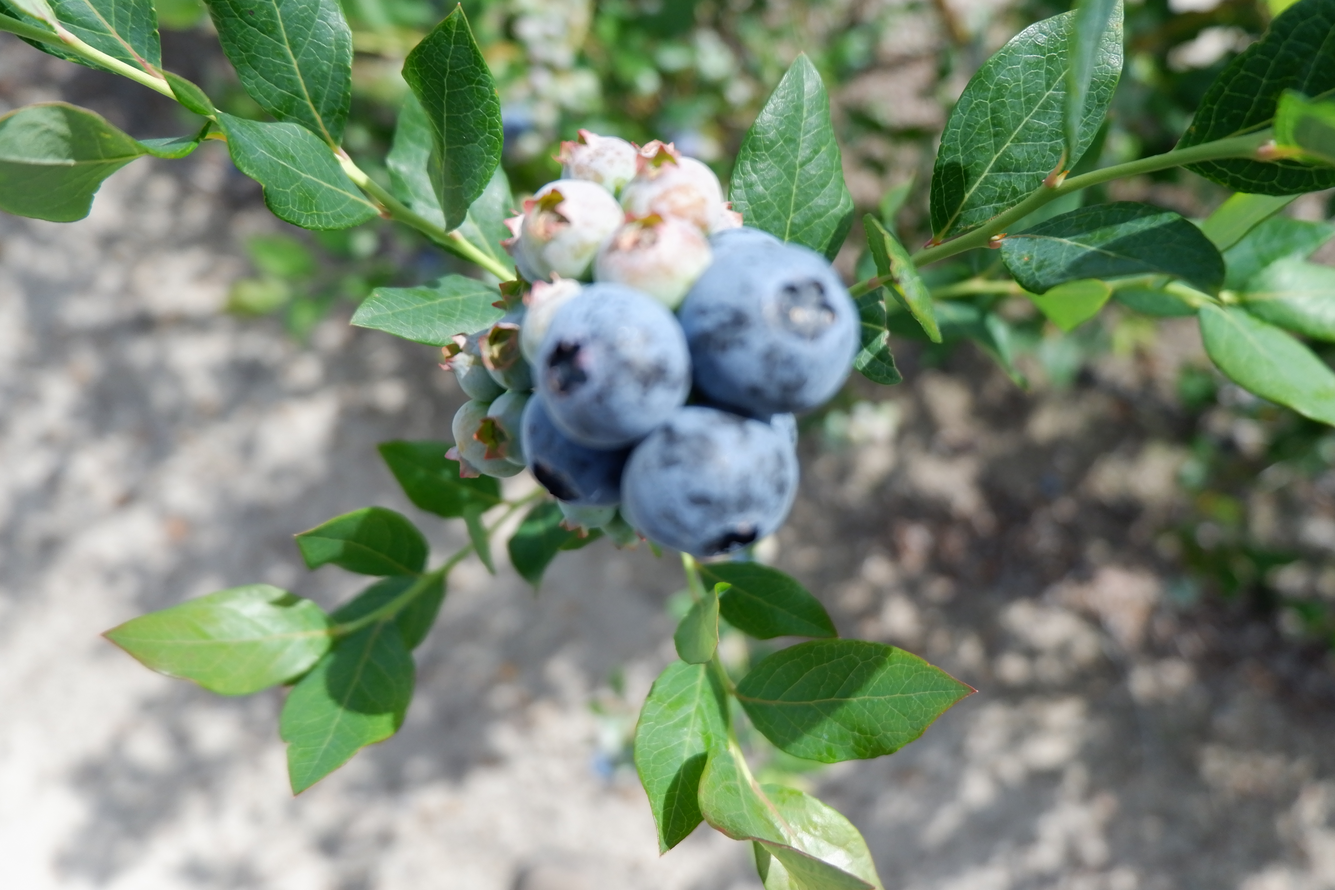Immature: (593, 212, 707, 306), (521, 181, 620, 276), (622, 145, 722, 228), (444, 399, 528, 479), (521, 279, 582, 367), (557, 131, 635, 196), (472, 390, 535, 465), (501, 212, 553, 283), (445, 331, 499, 399), (484, 314, 531, 391), (559, 503, 617, 538), (602, 511, 642, 550), (501, 265, 529, 314)
Mature: (683, 243, 858, 411), (622, 408, 793, 555), (536, 285, 689, 443), (523, 396, 632, 504), (704, 227, 785, 249)
